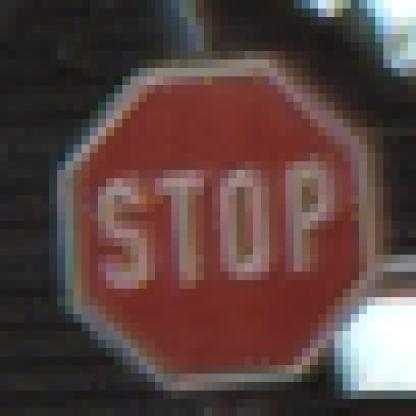stop: (60, 49, 370, 386)
